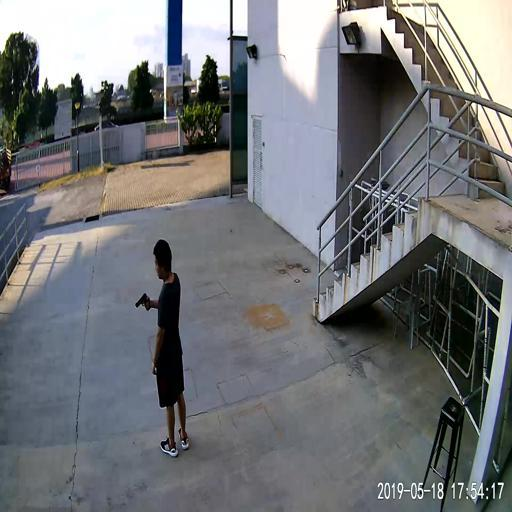Handgun: (133, 290, 148, 307)
